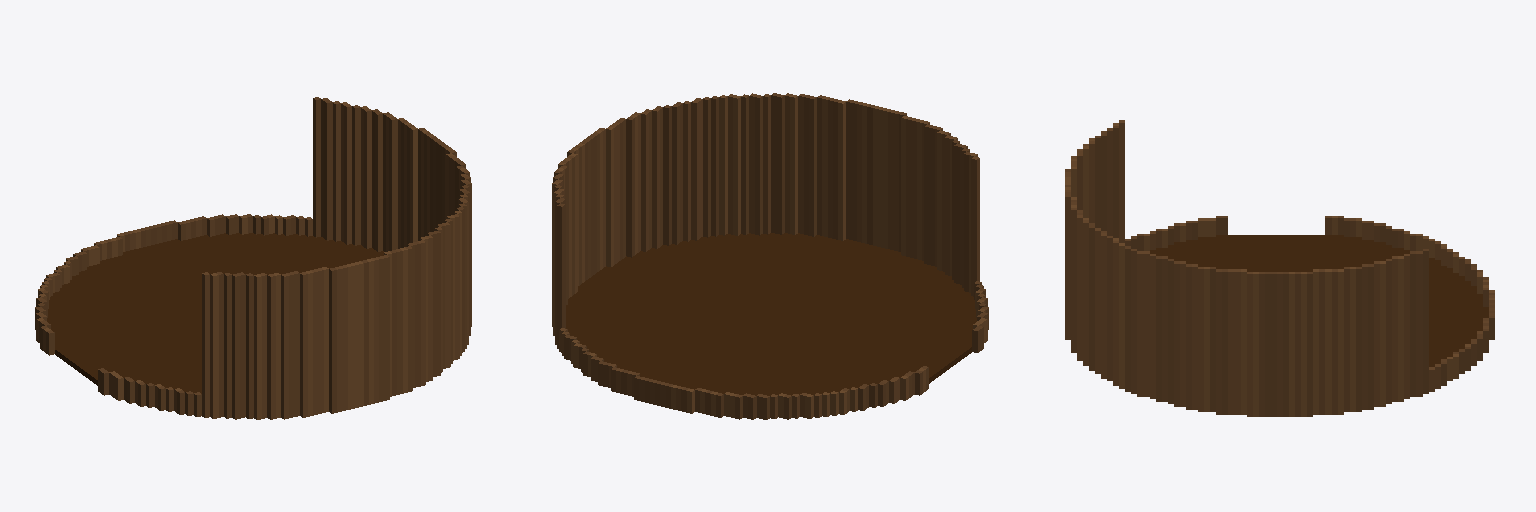
3 renders of one model, left to right at view 1: azimuth 30°, elevation 25°; view 2: azimuth 150°, elevation 25°; view 3: azimuth 270°, elevation 25°, orthographic.
Visible parts, largest first — view 1: object 1; view 2: object 1; view 3: object 1.
Part boxes in pixels (left/top/right/bottom): object 1: left=35, top=97, right=471, bottom=419; object 1: left=552, top=93, right=988, bottom=419; object 1: left=1065, top=120, right=1494, bottom=416.
Bounding box in the file's own units: 7 × 2.6 × 7.1.
Materials: 1 (1 with a texture image).